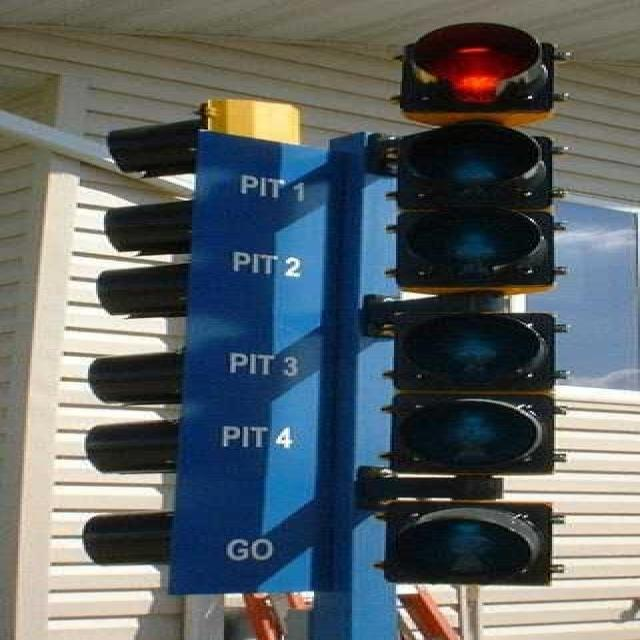Traffic Light -Red-: (389, 18, 571, 290)
